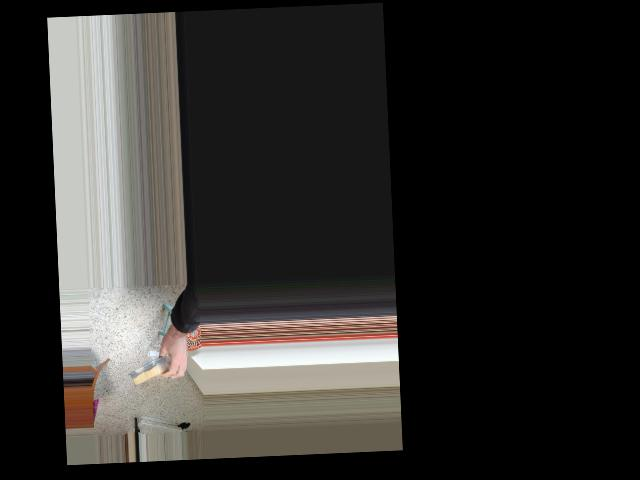cheese: (125, 343, 194, 400)
